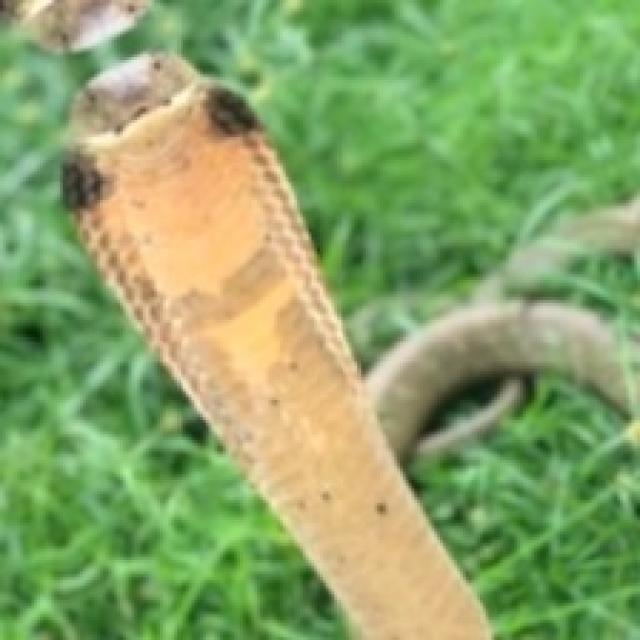king cobra: (63, 54, 489, 637), (383, 306, 623, 451)
